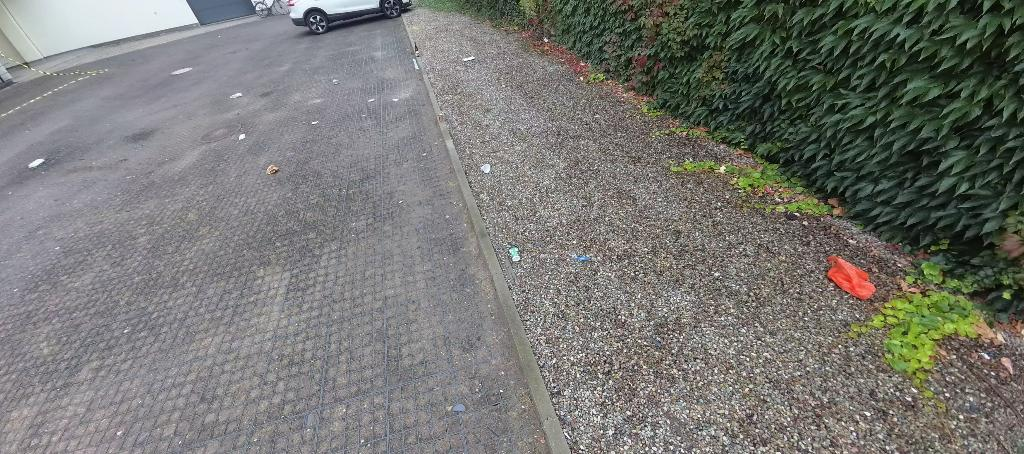garbage: (823, 251, 879, 301), (27, 156, 45, 169), (266, 163, 279, 175), (230, 90, 242, 102)
